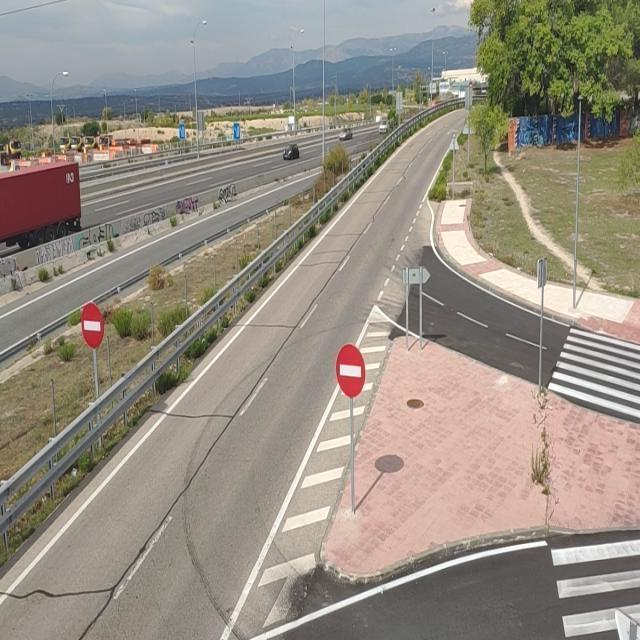Car: (282, 143, 299, 160), (337, 128, 353, 142)
Truck: (0, 156, 79, 240)
